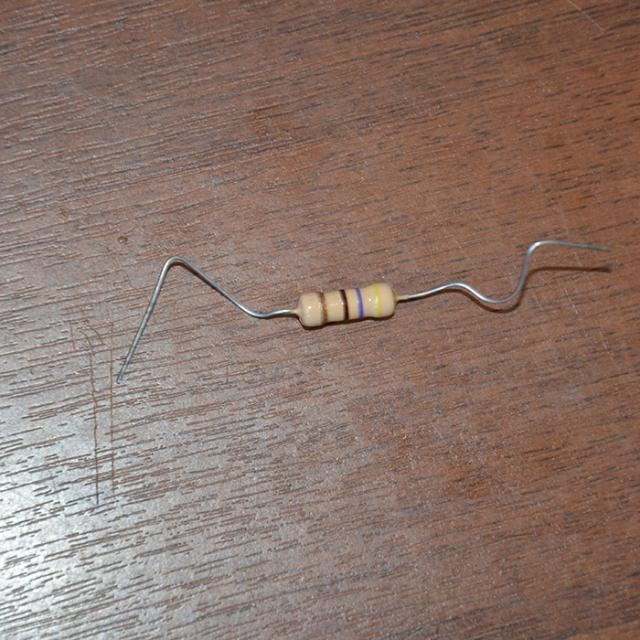brown: (341, 289, 349, 318)
gold: (318, 292, 327, 322)
resistor: (287, 273, 405, 343)
violet: (357, 287, 364, 318)
yellow: (375, 283, 382, 315)
